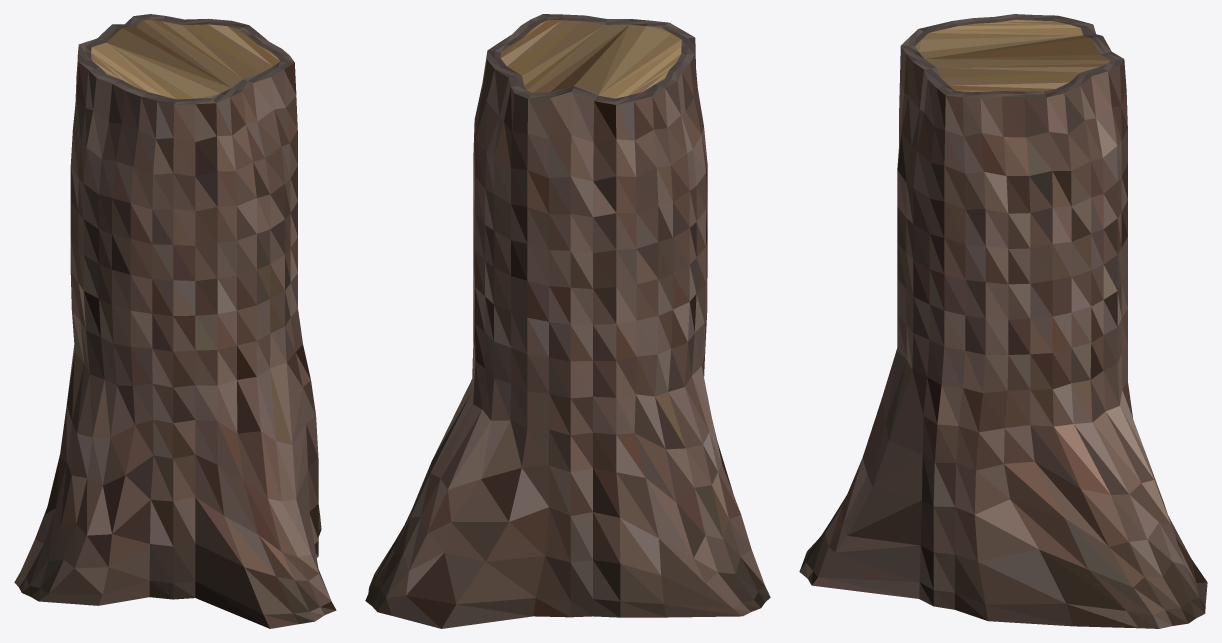
The model's file is r32_stumpf_4.glb.
The picture shows the model from 3 angles, left to right: view 1: azimuth 30°, elevation 25°; view 2: azimuth 150°, elevation 25°; view 3: azimuth 270°, elevation 25°; orthographic projection. The views are drawn at different scales.
Parts seen in each view (by area): view 1: stumpf; view 2: stumpf; view 3: stumpf.
Part boxes in pixels (x1,y1,x2,y2): stumpf: (14, 14, 336, 628); stumpf: (365, 14, 770, 628); stumpf: (799, 14, 1207, 628).
Bounding box in the file's own units: 0.6382 × 1 × 0.7264.
